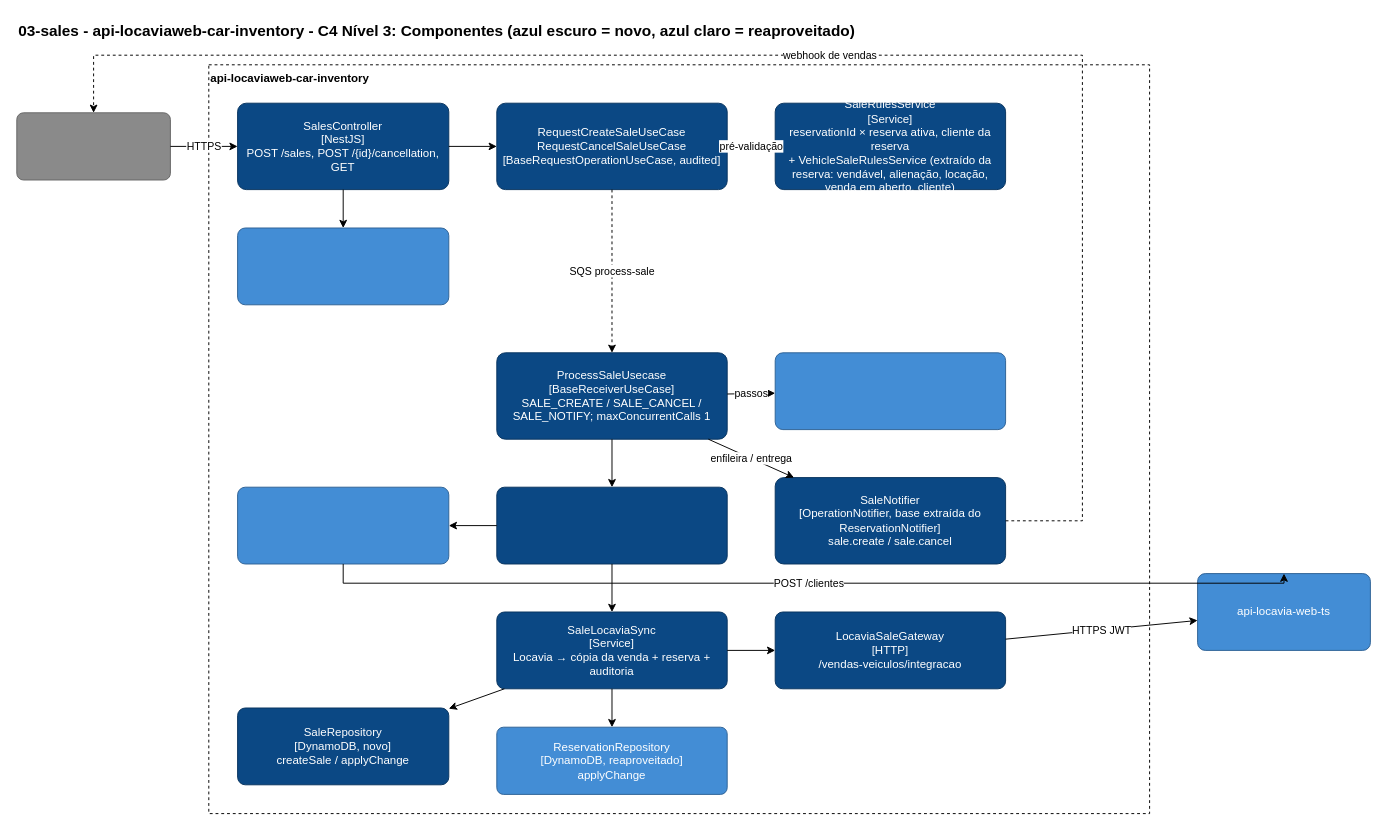
This 1387x830 diagram has some shape labels left out. The shapes that lost their labels are listed below. From the top down, each one's box as (x1, y1, x2, y2) in pixels, then its label:
(16, 112, 170, 180): Só Estoque [Sistema Externo]
(237, 227, 449, 305): GetSaleOperationUseCase [BaseOperationStatusUseCase] types = SALE_*
(774, 352, 1006, 430): OperationAuditService [reaproveitado] timeline
(237, 486, 449, 564): LocaviaCustomerWriter [HTTP, reaproveitado] POST /clientes, Lojista S
(496, 486, 727, 564): SaleWriter [Service] Cria e cancela; trata reentrega
